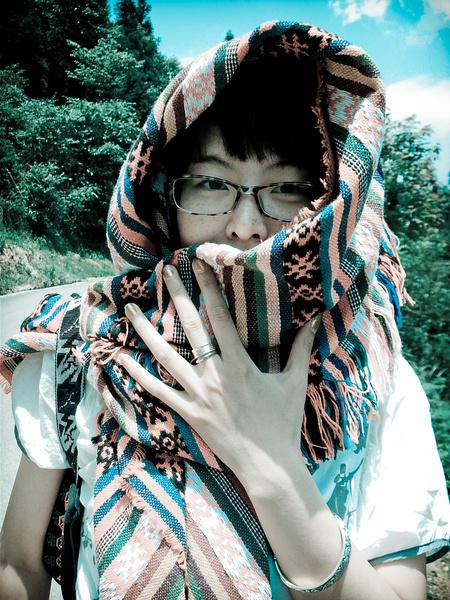WRONG: (168, 140, 338, 310)
